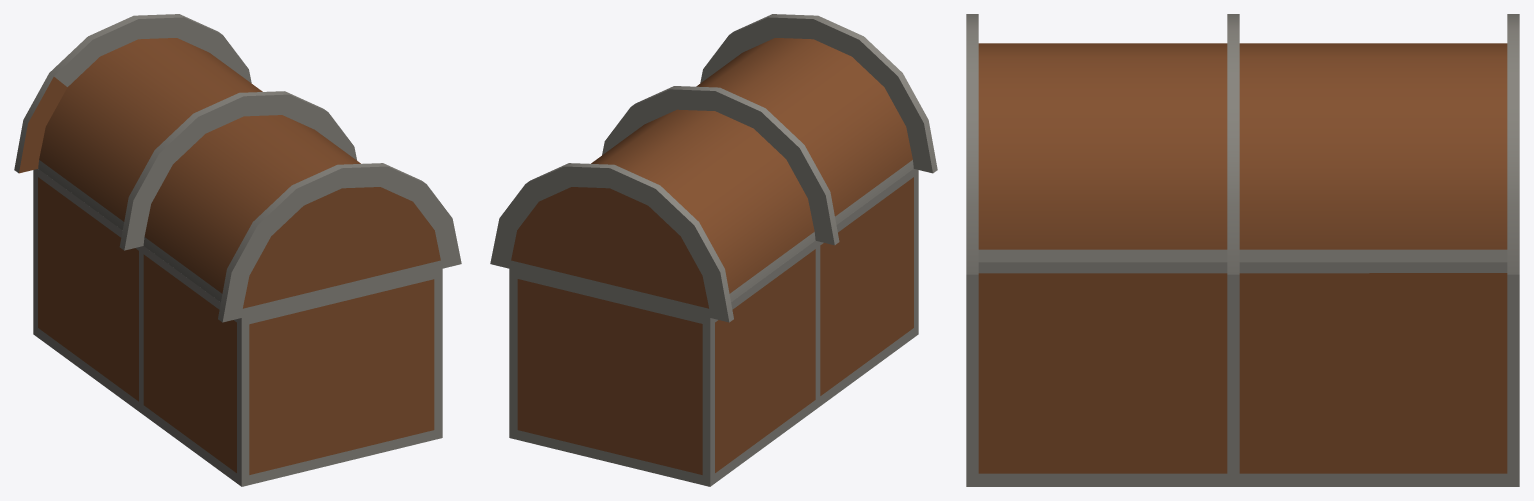
The model's file is MaxExportedFBXFile.fbx.
The picture shows the model from 3 angles, left to right: view 1: azimuth 30°, elevation 25°; view 2: azimuth 150°, elevation 25°; view 3: azimuth 270°, elevation 25°; orthographic projection. The views are drawn at different scales.
Visible parts, largest first — view 1: Lid, Base; view 2: Lid, Base; view 3: Base, Lid.
Part boxes in pixels (<box>): Lid: <box>14,14,461,322</box>; Base: <box>33,169,442,486</box>; Lid: <box>490,14,937,322</box>; Base: <box>509,169,918,486</box>; Base: <box>966,262,1519,486</box>; Lid: <box>966,14,1519,274</box>.
Size of the model in its own units: 62.86 by 73.92 by 94.85.
